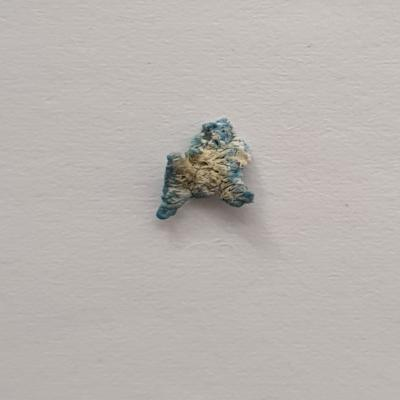plastic: (150, 111, 261, 222)
